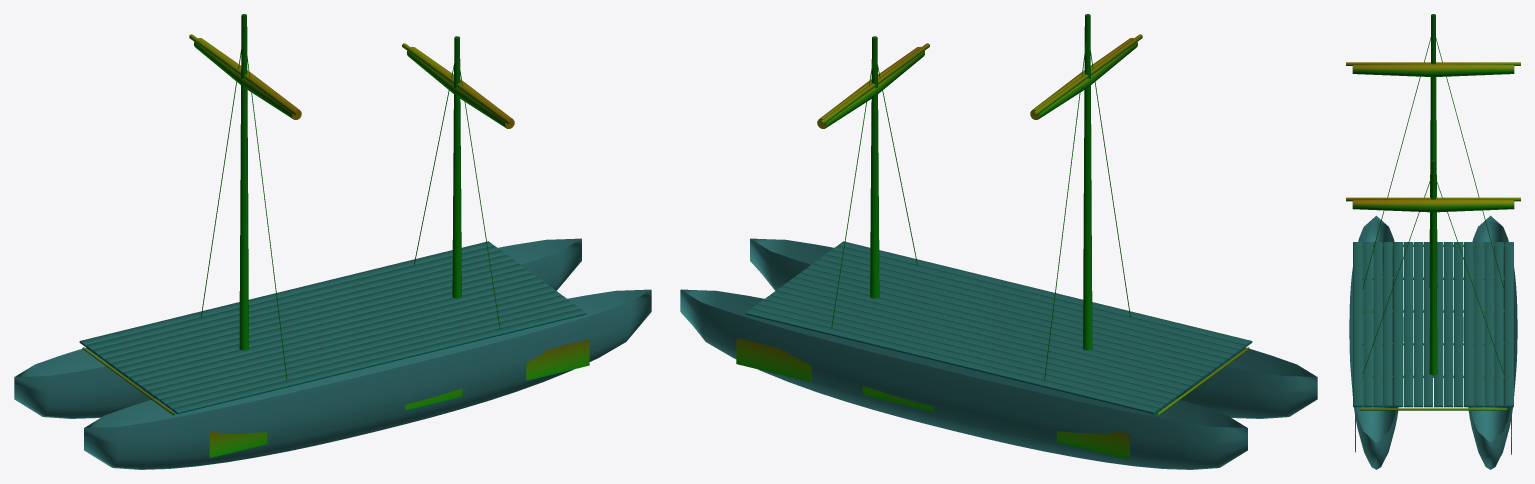
The model's file is hm_ship.glb.
The picture shows the model from 3 angles, left to right: view 1: azimuth 30°, elevation 25°; view 2: azimuth 150°, elevation 25°; view 3: azimuth 270°, elevation 25°; orthographic projection. The views are drawn at different scales.
Visible parts, largest first — view 1: hm_ship; view 2: hm_ship; view 3: hm_ship.
Part boxes in pixels (x1,y1,x2,y2): hm_ship: (14, 14, 651, 469); hm_ship: (680, 14, 1317, 469); hm_ship: (1346, 14, 1520, 469).
Size of what is drawn, in the model's own units: 16 by 11.15 by 5.2.
